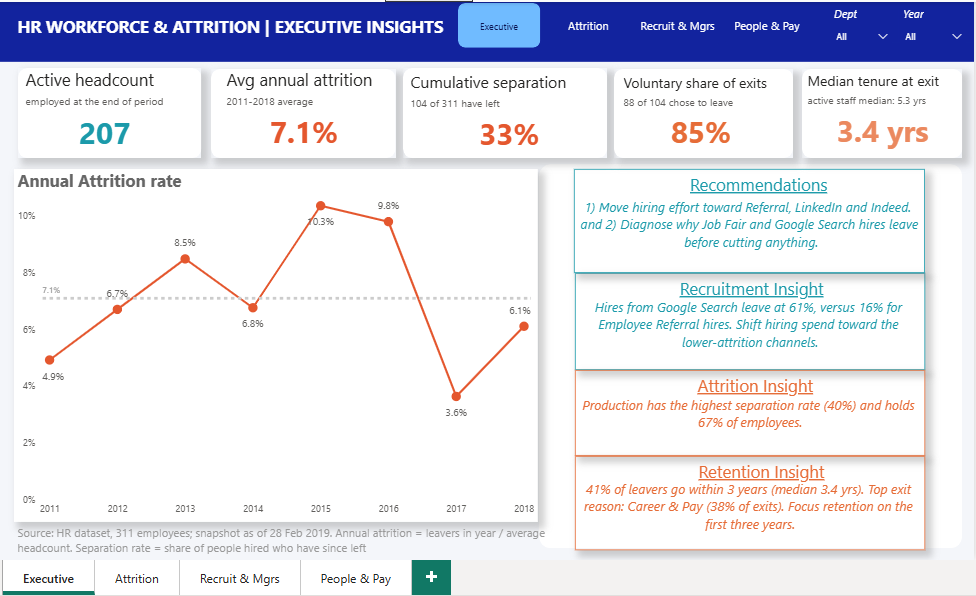

The page's visual inventory and layout, read from the dashboard file:
{"tool":"powerbi","page":{"name":"Executive","canvas":[1400,800],"ordinal":0},"visuals":[{"type":"card","title":"Avg annual attrition","fields":{"Values":["_measures.Avg Annual Attrition %"]},"box":[322.2,94.4,231.5,122.8],"z":0,"group":"g2"},{"type":"card","title":"Active headcount","fields":{"Values":["_measures.Headcount End"]},"box":[34.6,94.8,237,125],"z":0,"group":"g1"},{"type":"card","title":"Cumulative separation","fields":{"Values":["_measures.Attrition Rate"]},"box":[585.7,98.9,292.9,122.8],"z":0,"group":"g3"},{"type":"card","title":"Median tenure at exit","fields":{"Values":["_measures.Median Tenure at Exit"]},"box":[1156.1,98.9,225.2,116.5],"z":0,"group":"g5"},{"type":"card","title":"Voluntary share of exits","fields":{"Values":["_measures.Voluntary Share"]},"box":[891.3,102.4,231.5,115],"z":0,"group":"g4"},{"type":"shape","box":[775.3,231.8,606.7,551],"z":0},{"type":"shape","box":[0,0,1400,85.8],"z":1000},{"type":"textbox","box":[23.3,13.1,639.4,53],"z":2000},{"type":"shape","box":[28.3,94.5,263,129.1],"z":3000},{"type":"shape","box":[305.5,96.1,264.6,127.6],"z":4000},{"type":"shape","box":[581.1,94.5,292.9,129.1],"z":5000},{"type":"group","id":"g1","title":"Group 1","box":[34.6,94.8,237,125],"z":6000},{"type":"group","id":"g2","title":"Group 1","box":[322.2,94.4,231.5,122.8],"z":7000},{"type":"group","id":"g3","title":"Group 1","box":[585.7,98.9,292.9,122.8],"z":8000},{"type":"slicer","fields":{"Values":["DimDate.Year"]},"box":[1285.2,1.5,113.4,56.7],"z":9000},{"type":"pageNavigator","box":[659.4,1.5,504.3,64.7],"z":10000},{"type":"slicer","fields":{"Values":["HRDataset.Department"]},"box":[1186.3,1.5,106.1,56.7],"z":11000},{"type":"shape","box":[883.5,96.1,256.7,127.6],"z":12000},{"type":"group","id":"g4","title":"Group 1","box":[891.3,102.4,231.5,115],"z":13000},{"type":"shape","box":[1152.8,96.1,229.9,127.6],"z":14000},{"type":"group","id":"g5","title":"Group 1","box":[1156.1,98.9,225.2,116.5],"z":15000},{"type":"card","fields":{"Values":["_measures.Recruitment Insight"]},"box":[826.8,389,502.4,138.6],"z":16000},{"type":"textbox","box":[957.4,388.4,255.9,45.2],"z":17000},{"type":"lineChart","title":"Annual Attrition rate","fields":{"Category":["DimDate.Year"],"Y":["_measures.Annual Attrition %"]},"box":[23.6,239.4,751.2,505.5],"z":18000},{"type":"card","fields":{"Values":["_measures.Attrition_Insight"]},"box":[826.8,527.6,502.4,122.8],"z":19000},{"type":"textbox","box":[957.4,526.9,255.9,48.2],"z":20000},{"type":"card","fields":{"Values":["_measures.Recommendations"]},"box":[825.8,239.4,503,149.3],"z":21000},{"type":"textbox","box":[968,239.4,255.9,42.2],"z":22000},{"type":"card","fields":{"Values":["_measures.Retention Insight"]},"box":[826.8,650.4,502.4,135.4],"z":23000},{"type":"textbox","box":[951.2,650.4,288.2,42.5],"z":24000},{"type":"textbox","box":[23.6,744.9,774.8,55.1],"z":25000}]}

Visuals, with their boxes on the page's 1400x800 design canvas (x1, y1, x2, y2). These are canvas units, not pixel positions in the 976x596 screenshot, which may show the page scaled, cropped or inside an application window:
"Avg annual attrition" card: bbox=(322, 94, 554, 217)
"Active headcount" card: bbox=(35, 95, 272, 220)
"Cumulative separation" card: bbox=(586, 99, 879, 222)
"Median tenure at exit" card: bbox=(1156, 99, 1381, 215)
"Voluntary share of exits" card: bbox=(891, 102, 1123, 217)
shape: bbox=(775, 232, 1382, 783)
shape: bbox=(0, 0, 1400, 86)
textbox: bbox=(23, 13, 663, 66)
shape: bbox=(28, 94, 291, 224)
shape: bbox=(306, 96, 570, 224)
shape: bbox=(581, 94, 874, 224)
"Group 1" group: bbox=(35, 95, 272, 220)
"Group 1" group: bbox=(322, 94, 554, 217)
"Group 1" group: bbox=(586, 99, 879, 222)
slicer - DimDate.Year: bbox=(1285, 2, 1399, 58)
pageNavigator: bbox=(659, 2, 1164, 66)
slicer - HRDataset.Department: bbox=(1186, 2, 1292, 58)
shape: bbox=(884, 96, 1140, 224)
"Group 1" group: bbox=(891, 102, 1123, 217)
shape: bbox=(1153, 96, 1383, 224)
"Group 1" group: bbox=(1156, 99, 1381, 215)
card - _measures.Recruitment Insight: bbox=(827, 389, 1329, 528)
textbox: bbox=(957, 388, 1213, 434)
"Annual Attrition rate" lineChart: bbox=(24, 239, 775, 745)
card - _measures.Attrition_Insight: bbox=(827, 528, 1329, 650)
textbox: bbox=(957, 527, 1213, 575)
card - _measures.Recommendations: bbox=(826, 239, 1329, 389)
textbox: bbox=(968, 239, 1224, 282)
card - _measures.Retention Insight: bbox=(827, 650, 1329, 786)
textbox: bbox=(951, 650, 1239, 693)
textbox: bbox=(24, 745, 798, 800)
